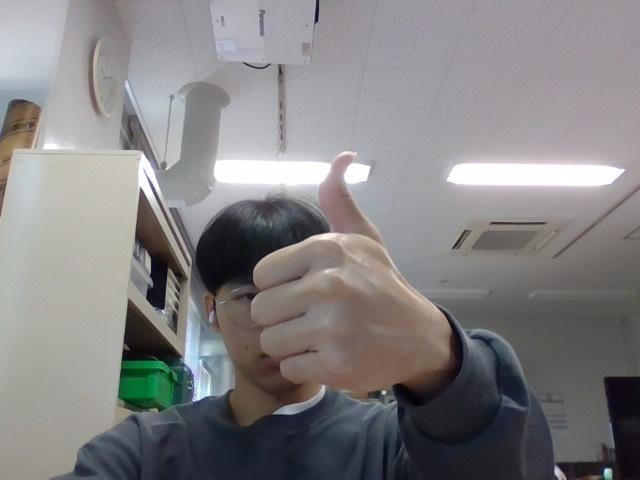thumbs-up: (250, 147, 455, 401)
